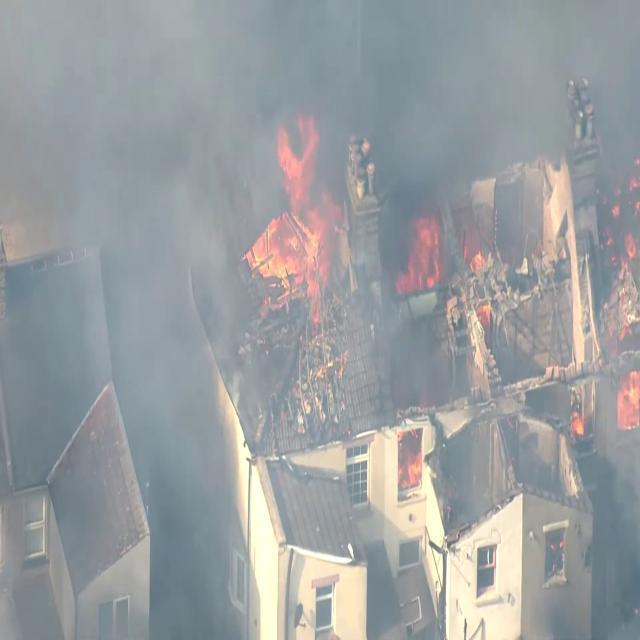Fire: (231, 85, 349, 314), (378, 205, 441, 298), (618, 344, 640, 430)
Smoke: (117, 42, 219, 309)
